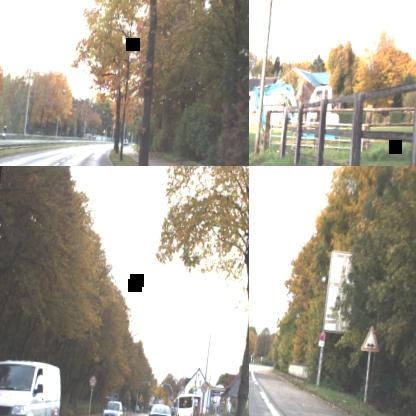speed limit 50: (199, 381, 208, 393), (88, 374, 96, 387)
uneven road: (360, 323, 382, 352)
